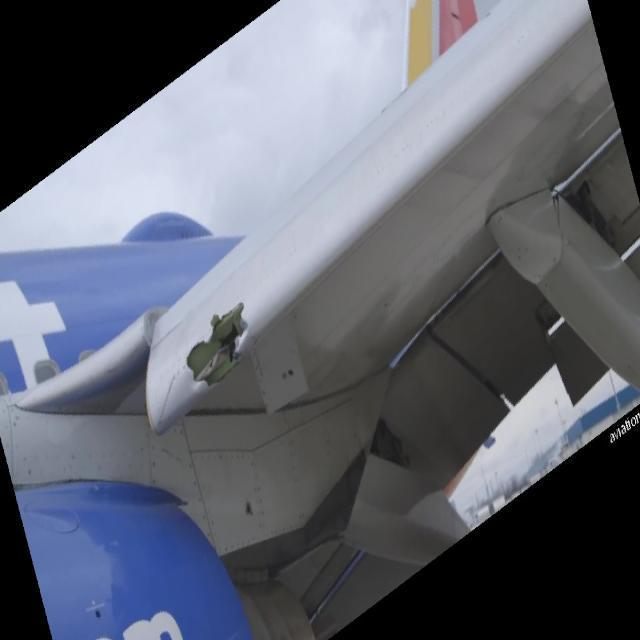crack: (184, 302, 251, 397)
